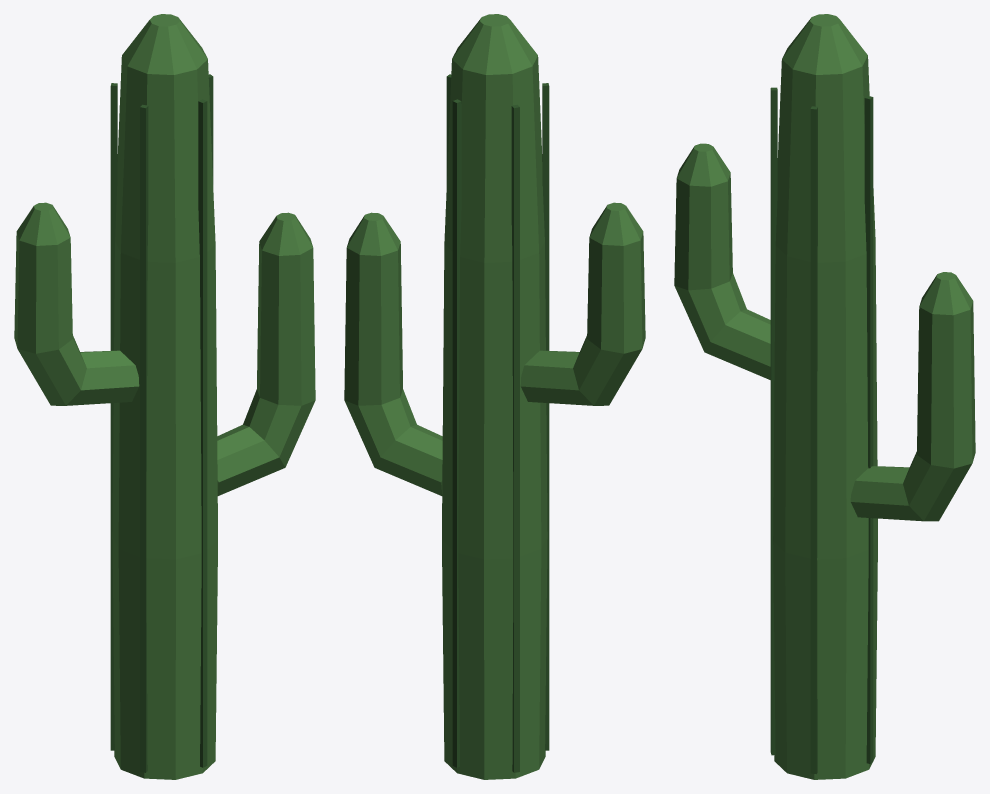
Rendered from SM_Cactus_Saguaro_A.obj.
3 views of the same model, side by side, from view 1: azimuth 30°, elevation 25°; view 2: azimuth 150°, elevation 25°; view 3: azimuth 330°, elevation 25° (orthographic).
Parts seen in each view (by area): view 1: SM_Cactus_Saguaro_A; view 2: SM_Cactus_Saguaro_A; view 3: SM_Cactus_Saguaro_A.
Part boxes in pixels (x1,y1,x2,y2): SM_Cactus_Saguaro_A: (14,14,315,779); SM_Cactus_Saguaro_A: (344,14,645,779); SM_Cactus_Saguaro_A: (674,14,975,779).
Bounding box in the file's own units: 1.34 × 3.2 × 0.4119.
